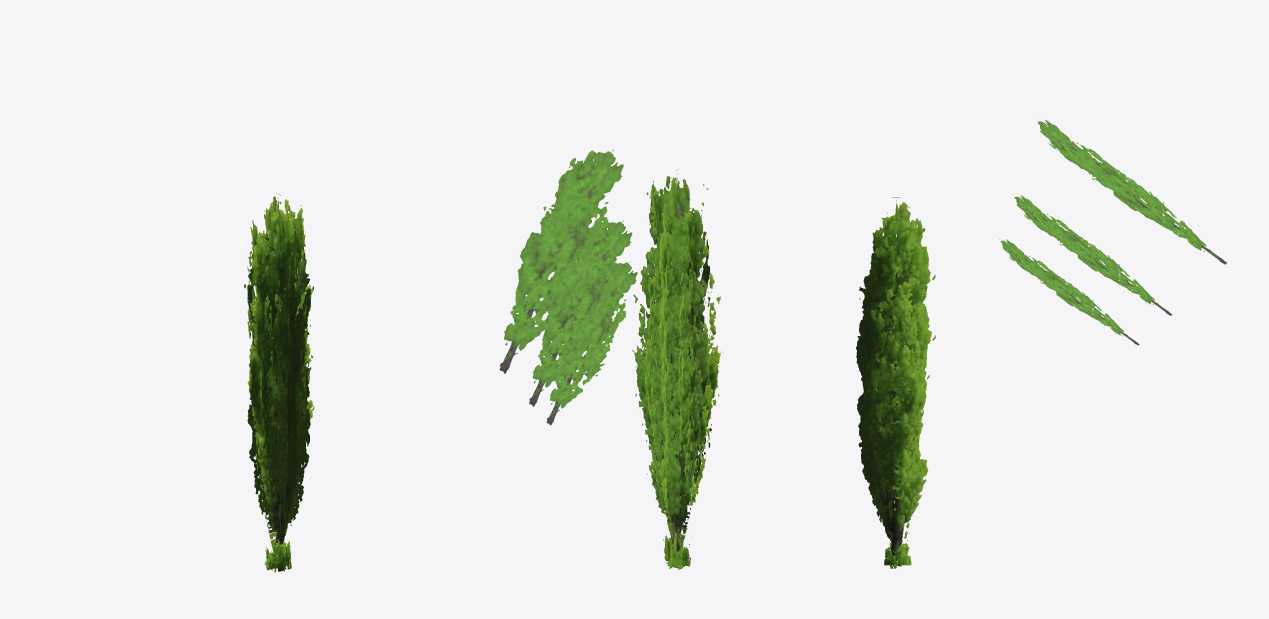
File: tree-impo2A.glb
3 views of the same model, side by side, from view 1: azimuth 30°, elevation 25°; view 2: azimuth 150°, elevation 25°; view 3: azimuth 270°, elevation 25° (orthographic). The views are drawn at different scales.
Visible parts, largest first — view 1: size3.008, size3.002, size3.012, size3.003, size1.027, size2.018, size2.022, size3.011, size2.015, size3.010; view 2: size3.shadow, size3.007, size2.shadow.001, size1.shadow.002, size3.001, size3.012, size2.017, size1.025, size3.003, size3.011, size3.009, size2.005 (+4 smaller); view 3: size3.004, size3.013, size3.shadow, size2.shadow.001, size2.023, size1.shadow.002, size1.035, size2.016.
Part boxes in pixels (box(x1,y1,x2,y2)): size3.008: box(261, 233, 313, 513); size3.002: box(247, 200, 314, 544); size3.012: box(247, 220, 278, 478); size3.003: box(262, 195, 299, 530); size1.027: box(273, 309, 293, 544); size2.018: box(264, 294, 307, 523); size2.022: box(255, 285, 278, 493); size3.011: box(284, 199, 312, 446); size2.015: box(273, 280, 295, 537); size3.010: box(244, 231, 268, 494); size3.shadow: box(499, 149, 623, 373); size3.007: box(632, 192, 694, 505); size2.shadow.001: box(529, 220, 632, 406); size1.shadow.002: box(546, 261, 637, 425); size3.001: box(639, 176, 709, 551); size3.012: box(679, 210, 711, 468); size2.017: box(640, 255, 691, 516); size1.025: box(649, 289, 700, 558); size3.003: box(656, 169, 689, 533); size3.011: box(645, 188, 660, 479); size3.009: box(684, 184, 722, 482); size2.005: box(645, 246, 703, 549); size3.004: box(856, 197, 935, 564); size3.013: box(860, 220, 926, 506); size3.shadow: box(1036, 119, 1227, 264); size2.shadow.001: box(1013, 195, 1172, 315); size2.023: box(866, 278, 921, 517); size1.shadow.002: box(999, 239, 1139, 345); size1.035: box(870, 314, 918, 522); size2.016: box(863, 268, 929, 565).
Bounding box in the file's own units: 11.56 × 34.3 × 27.49.
1 material, 1 textured.
